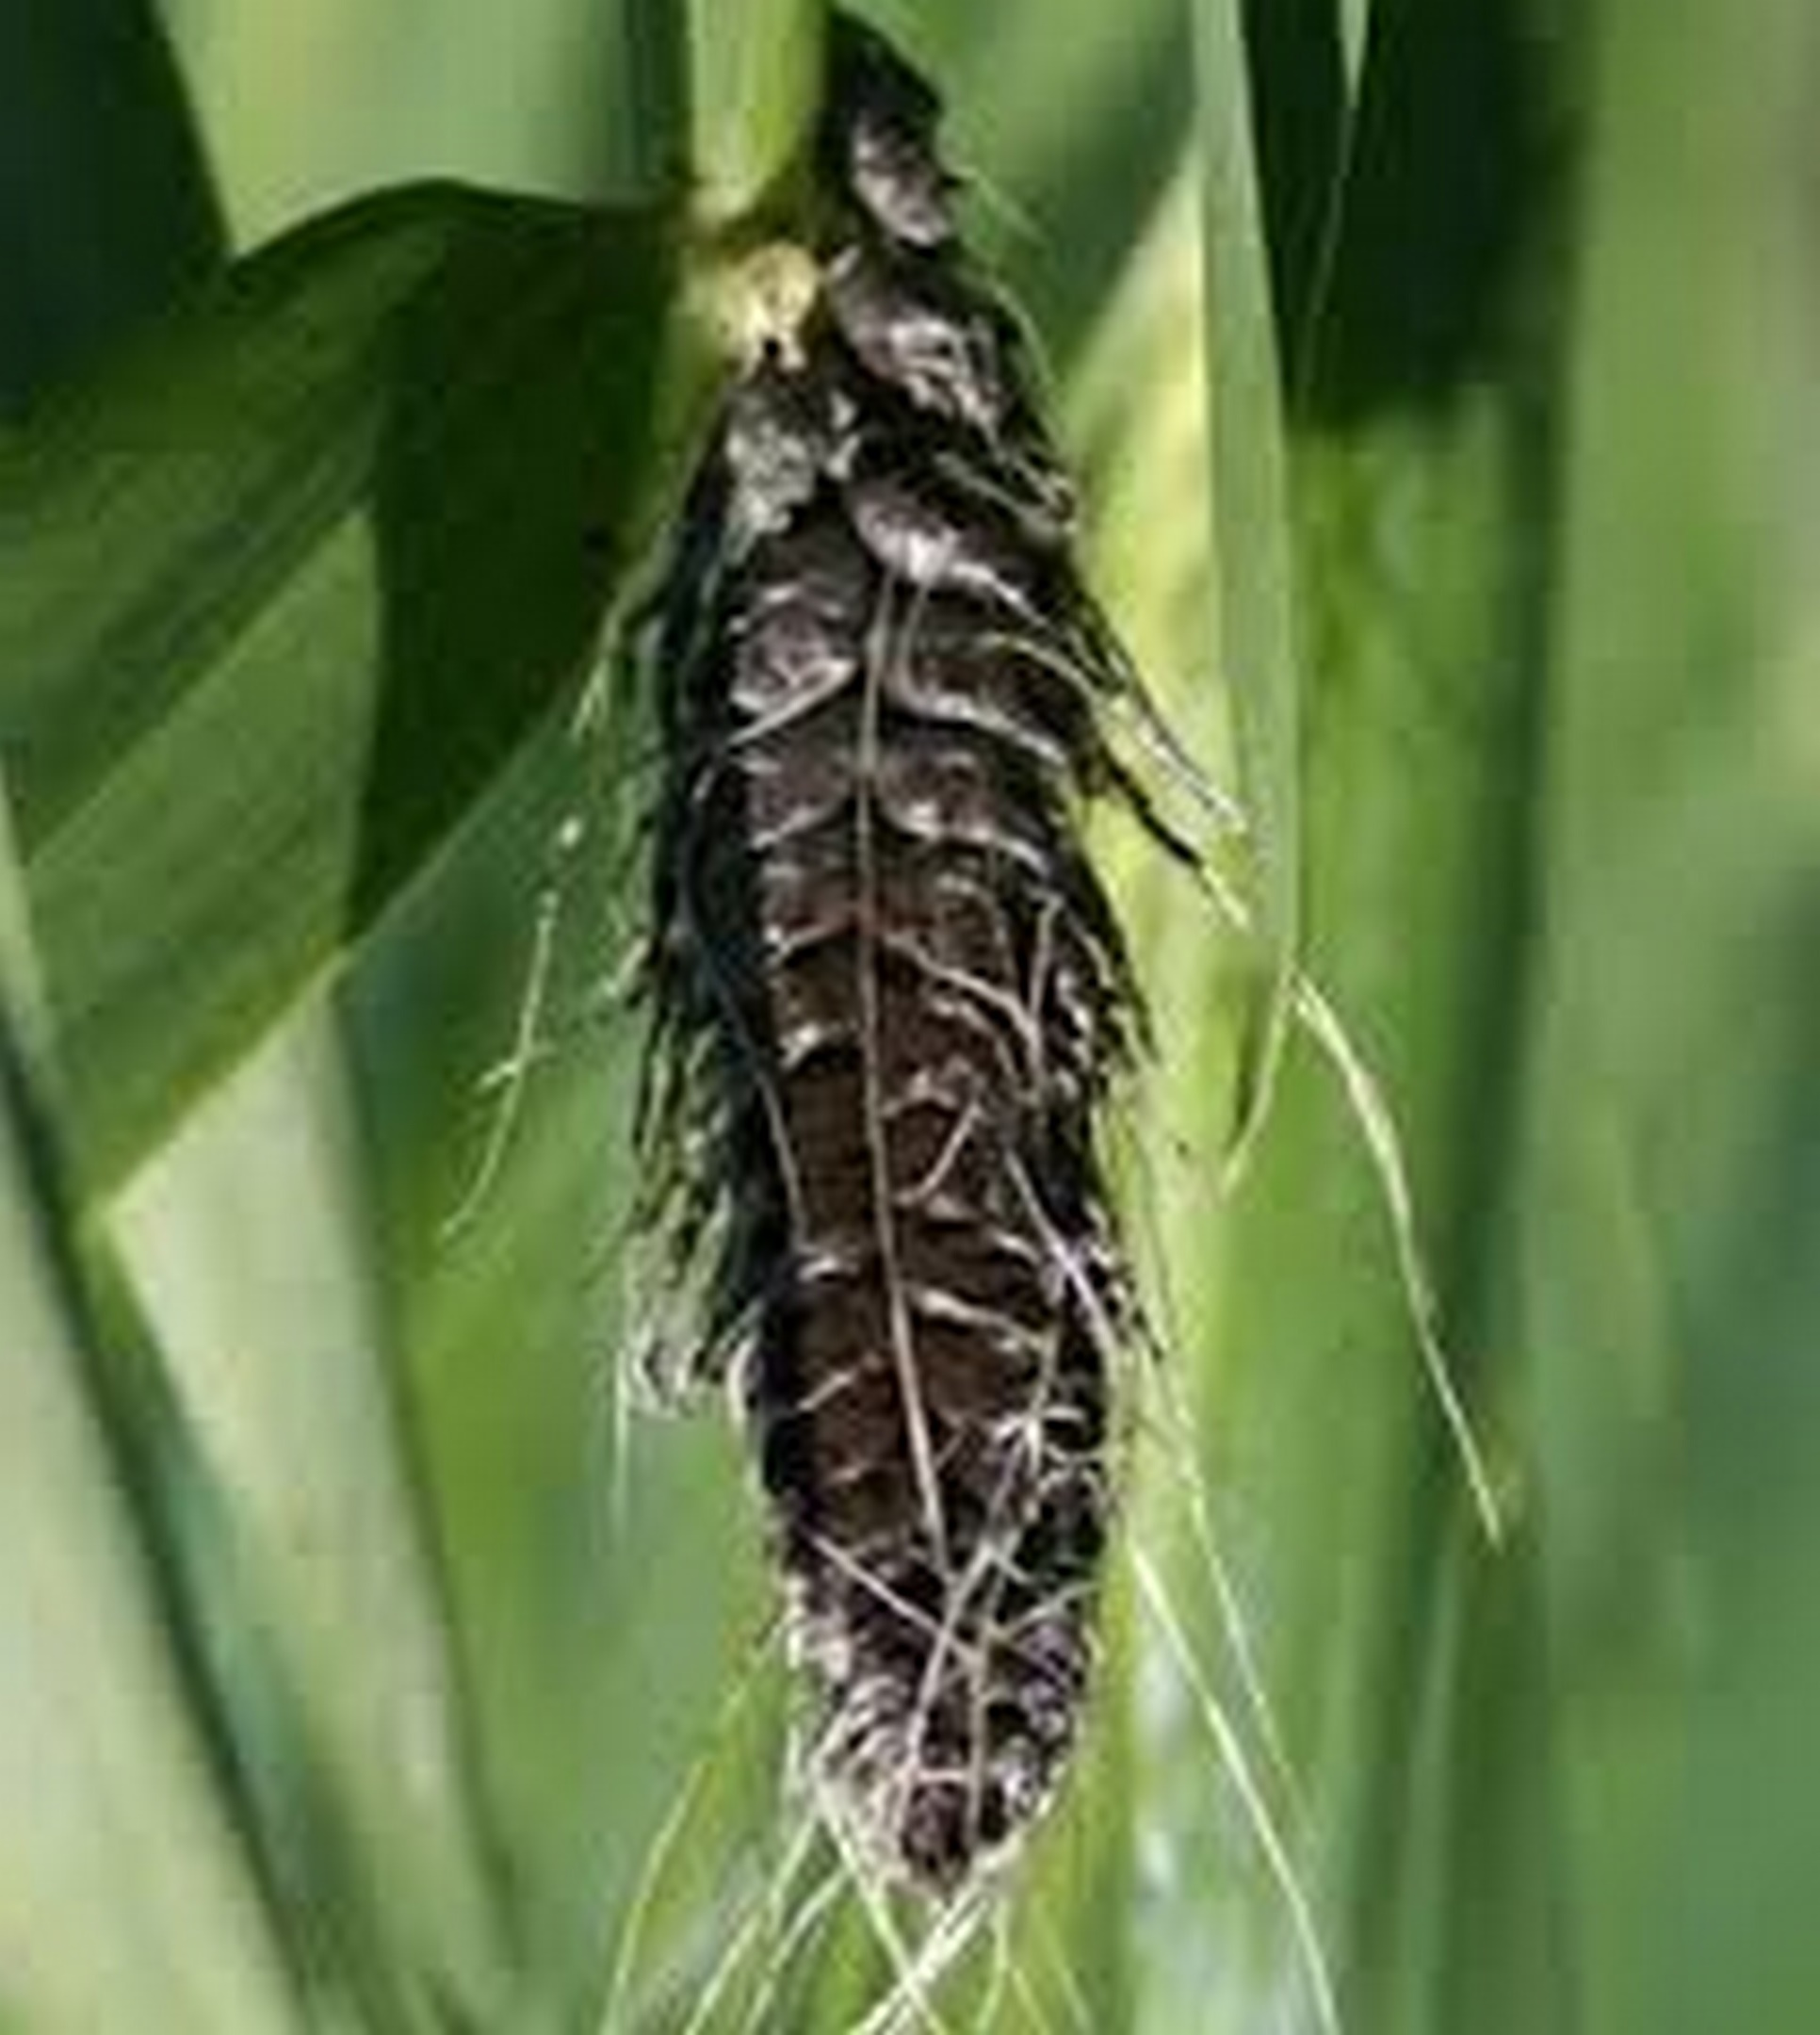Wheat Loose Smut: (581, 202, 1270, 1912)
